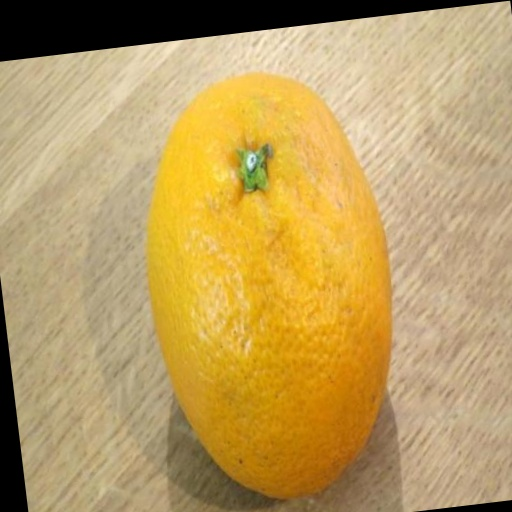fruit: (148, 73, 391, 497)
